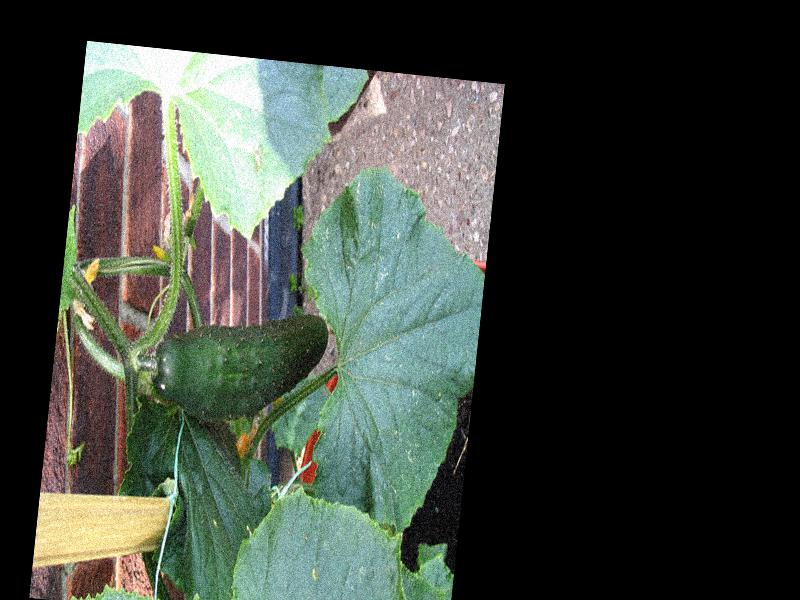Cucumber: (149, 295, 331, 430)
